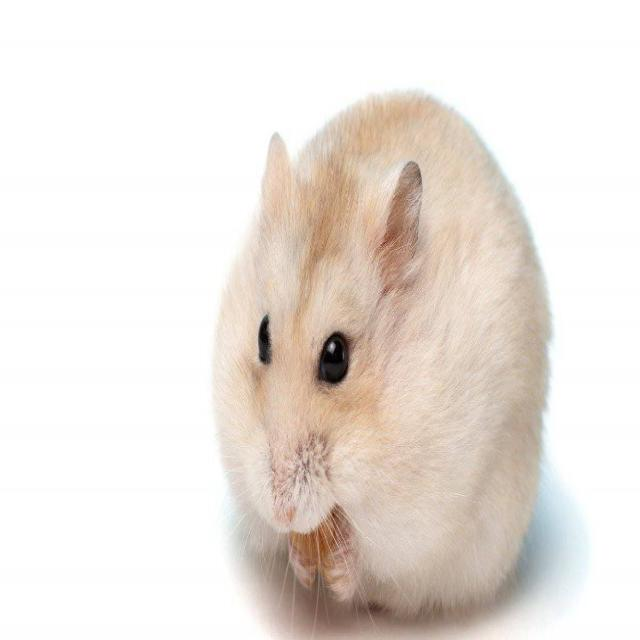hamster: (212, 89, 555, 617)
